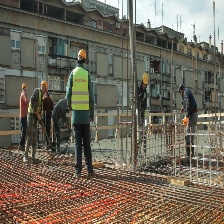helmet: (77, 47, 88, 65)
person: (67, 46, 96, 180), (27, 80, 47, 162), (178, 84, 200, 155)
vest: (72, 69, 89, 110)
